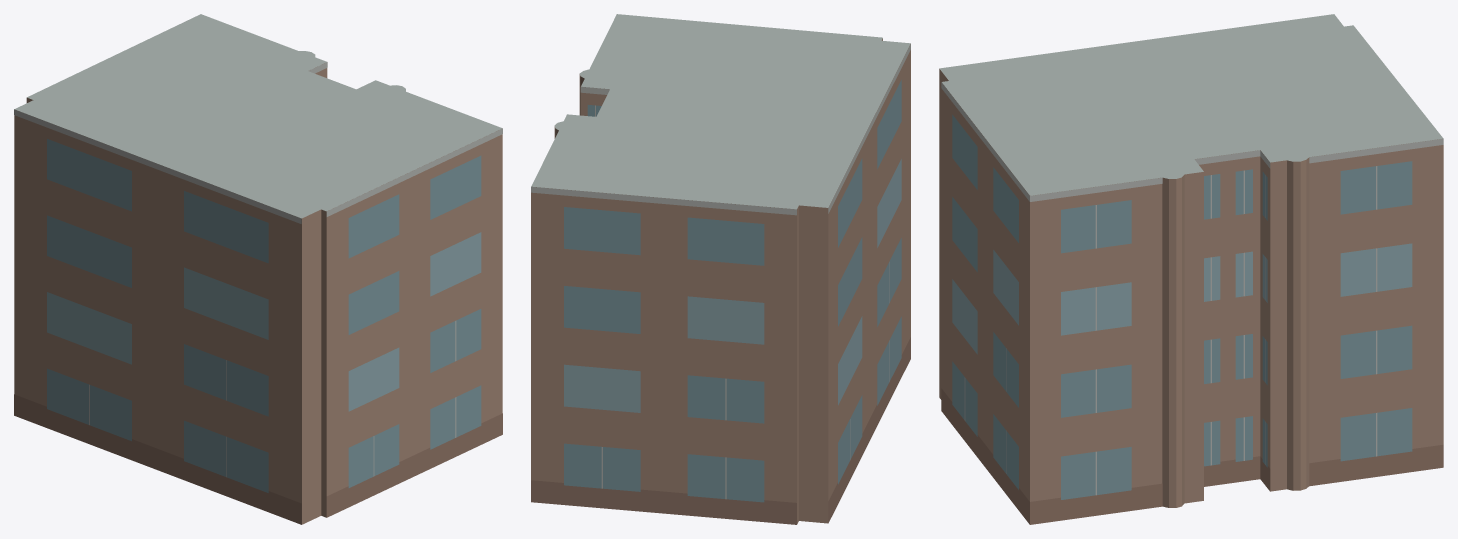
Rendered from survey-upis-32745664.glb.
The picture shows the model from 3 angles, left to right: view 1: azimuth 30°, elevation 25°; view 2: azimuth 150°, elevation 25°; view 3: azimuth 270°, elevation 25°; orthographic projection. The views are drawn at different scales.
Parts seen in each view (by area): view 1: survey-upis-32745664.tmp; view 2: survey-upis-32745664.tmp; view 3: survey-upis-32745664.tmp.
Part boxes in pixels (box(x1,y1,x2,y2)): survey-upis-32745664.tmp: box(14, 14, 502, 524); survey-upis-32745664.tmp: box(531, 14, 910, 524); survey-upis-32745664.tmp: box(939, 14, 1443, 524).
Size of the model in its own units: 15.18 by 12.8 by 17.79.
